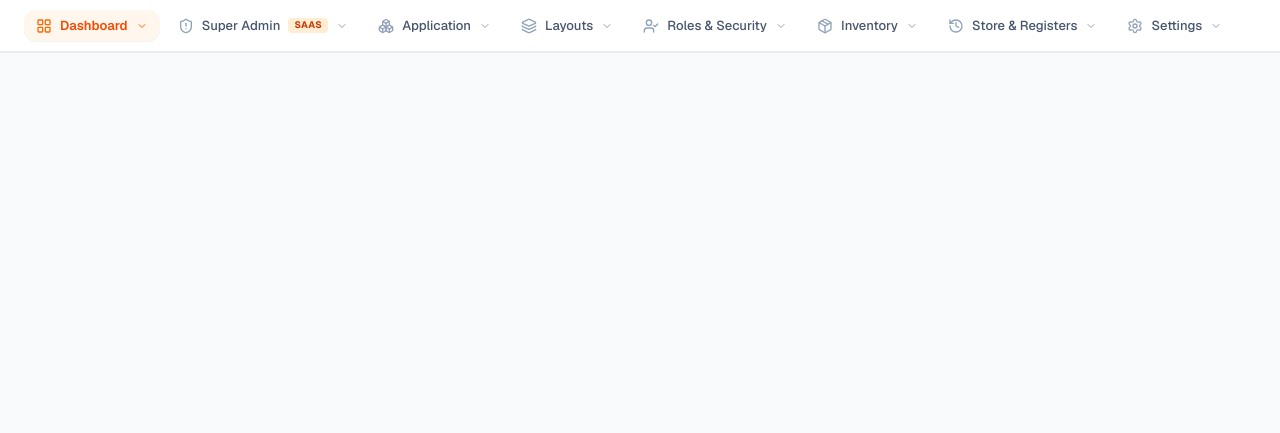
Test case: HorizontalNav Component › opens dropdown flyout menu when Inventory is clicked
Click the button "Inventory" at (868, 26), box [805,10,930,41]
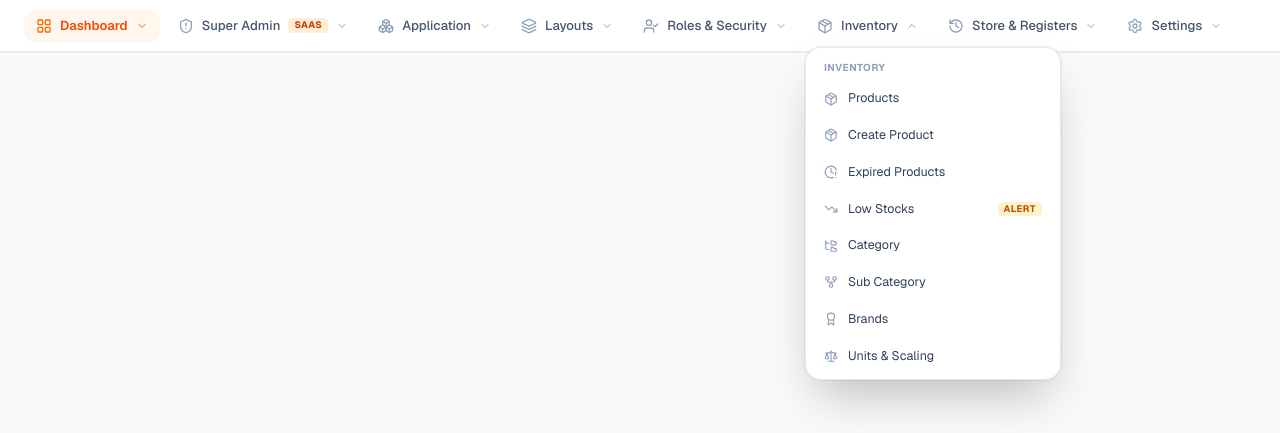
Expected: the text "Products" is shown, [848,89,899,108]
Expected: the text "Create Product" is shown, [848,126,934,145]
Expected: the text "Expired Products" is shown, [848,163,945,182]
